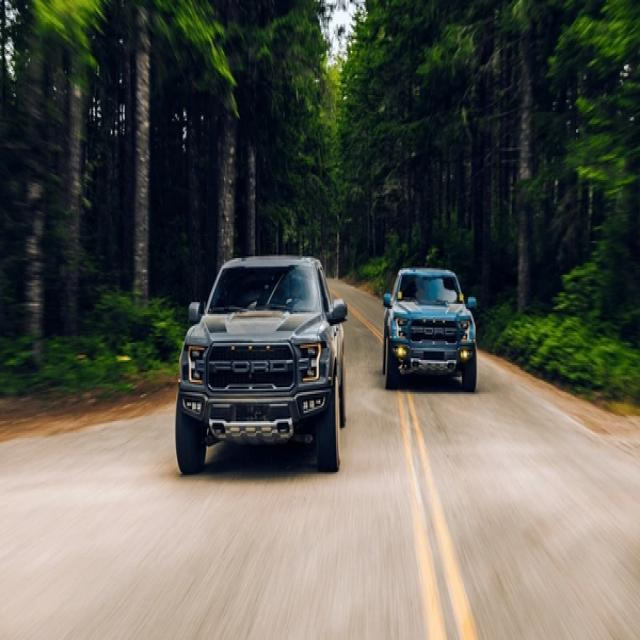ford: (209, 358, 296, 380), (410, 324, 460, 340)
